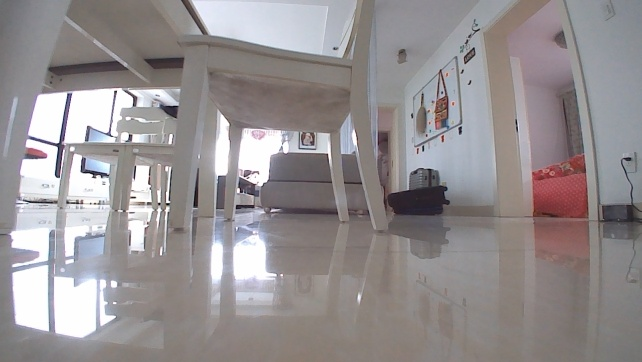bed1: (532, 156, 589, 219)
dining_table1: (0, 0, 391, 241)
sofa1: (256, 145, 388, 212)
wire: (620, 155, 641, 220)
